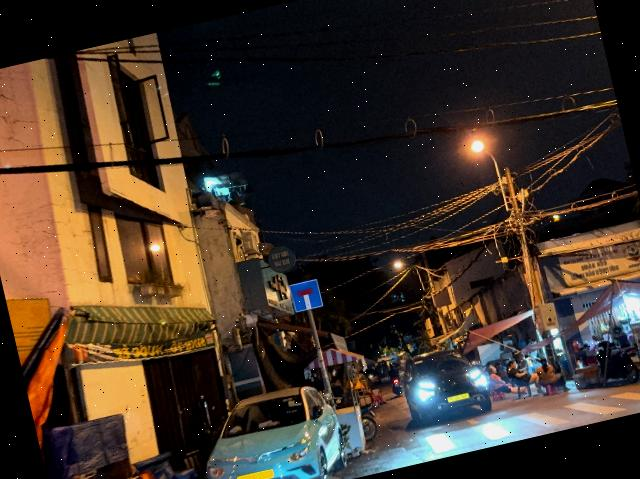duong-cut: (289, 278, 323, 313)
